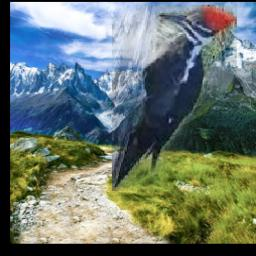Woodpecker: (112, 6, 237, 192)
